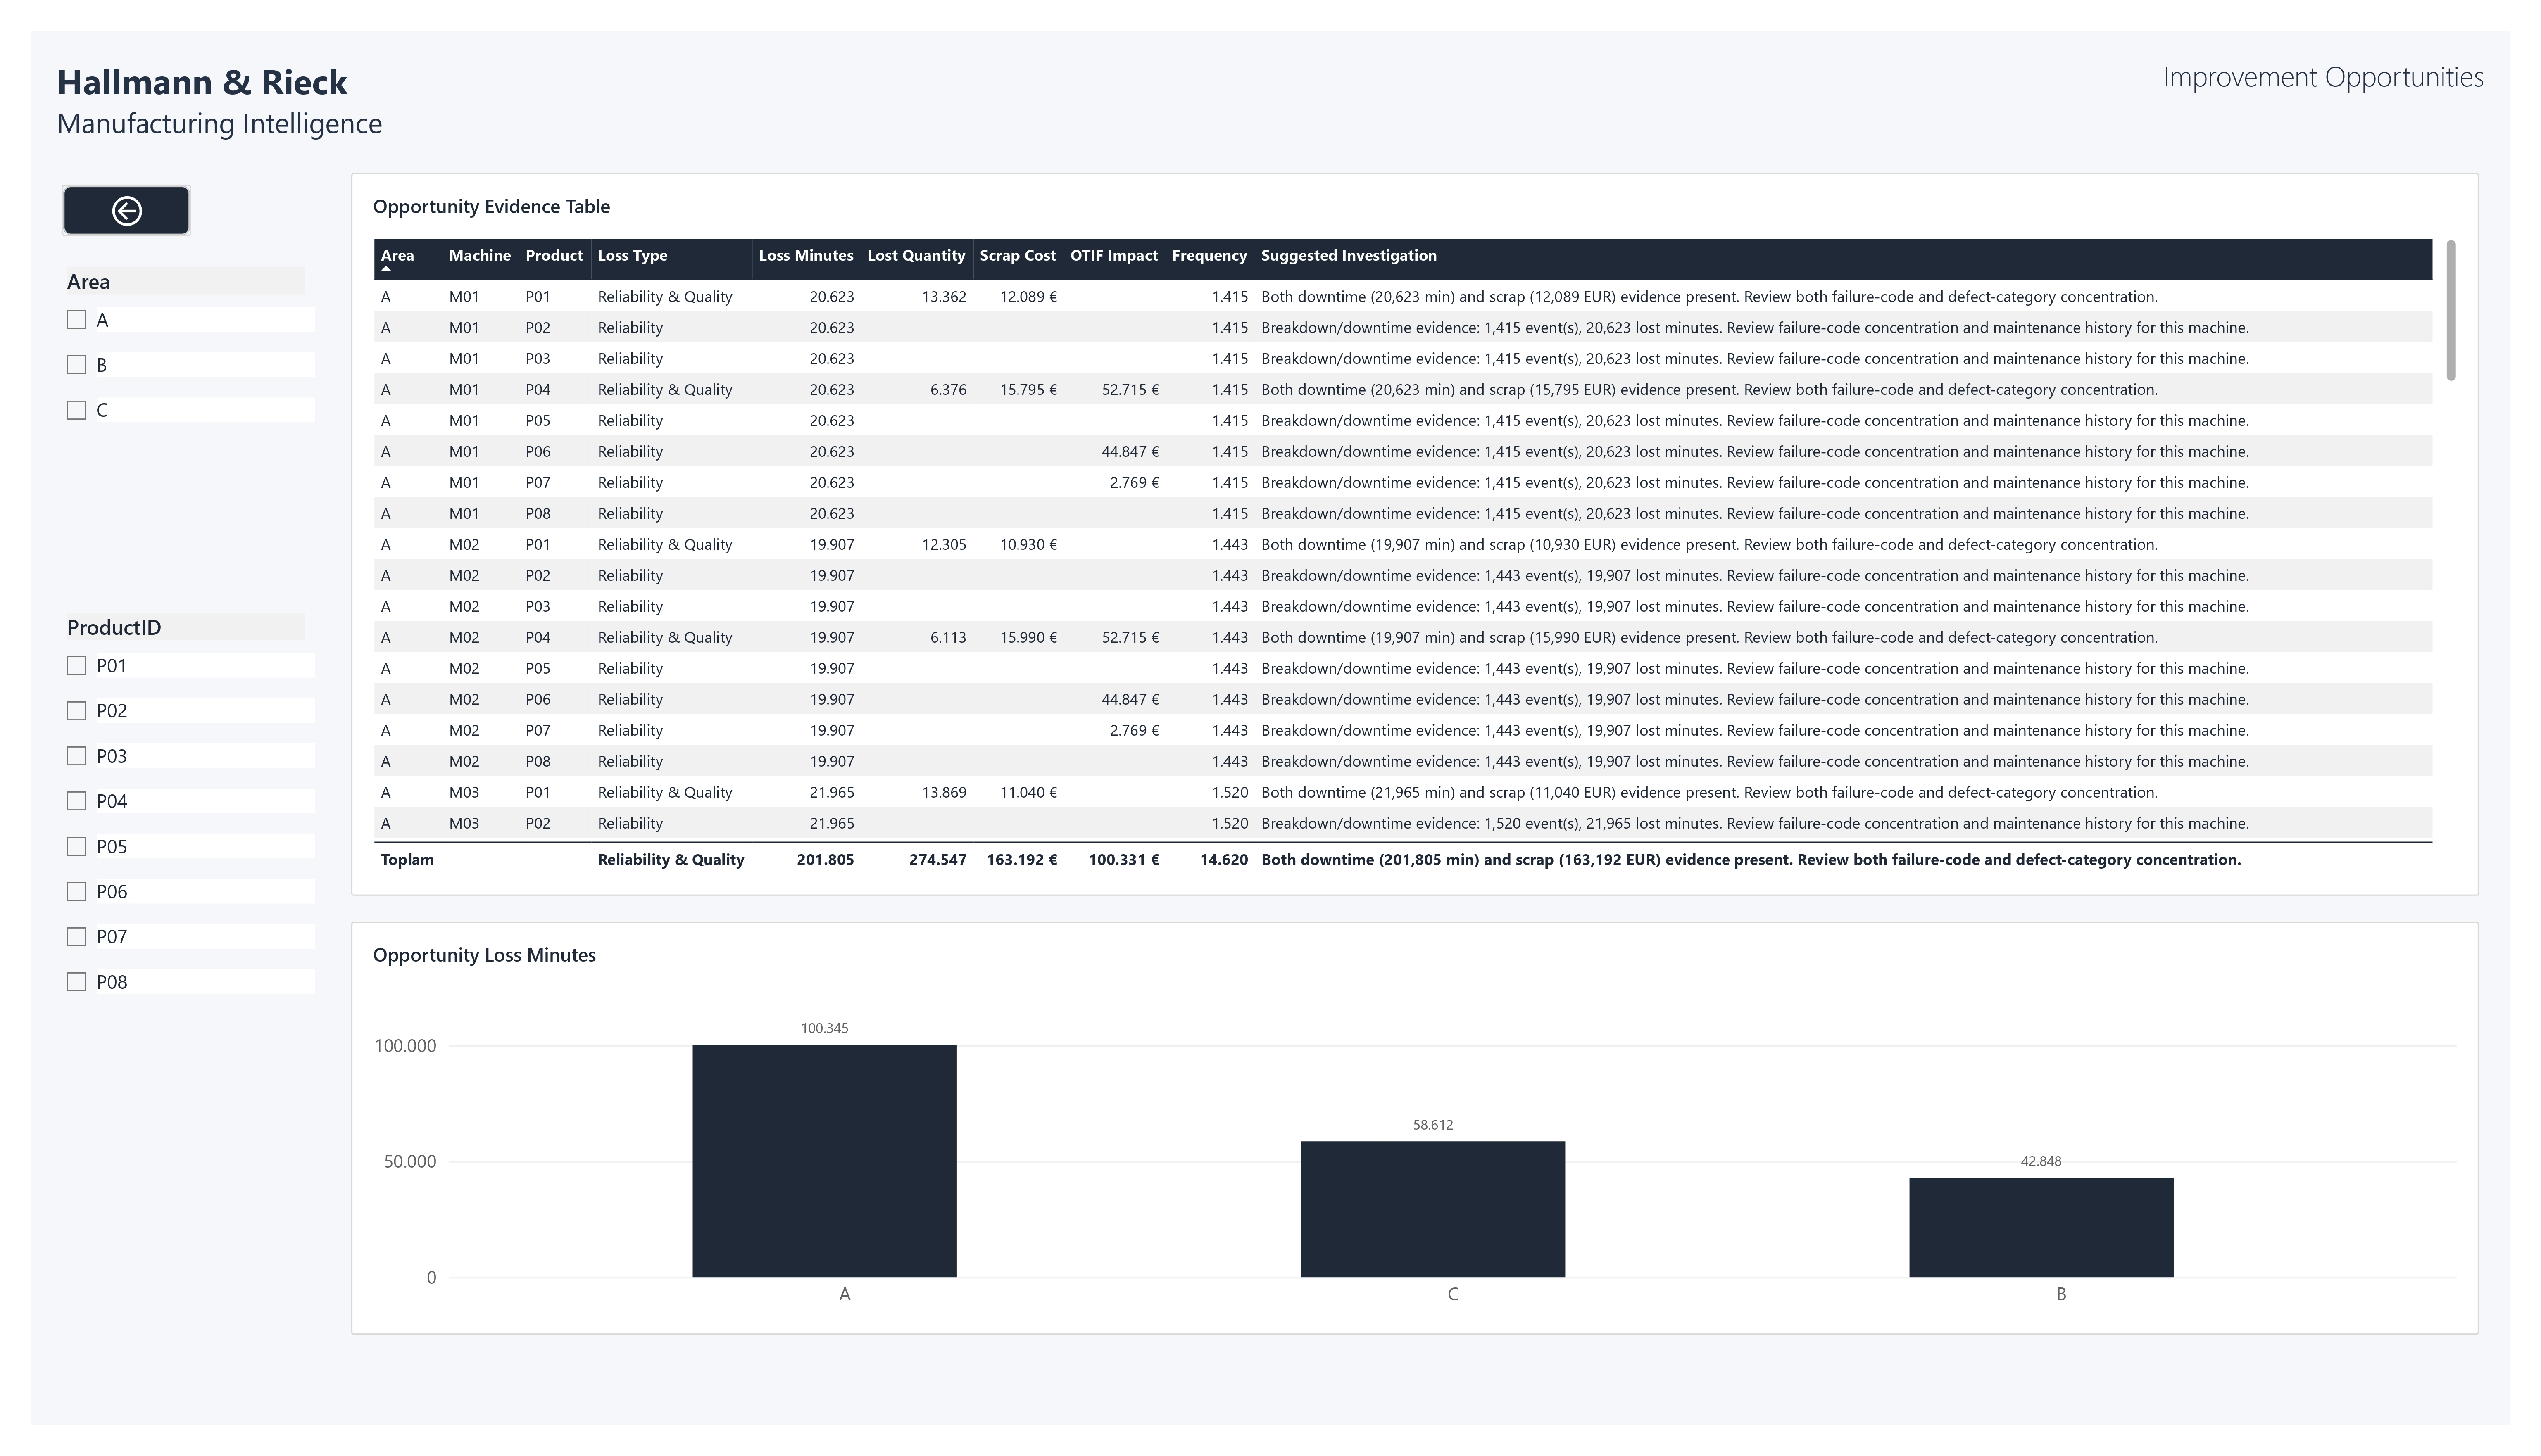

What the dashboard file says about the page in this screenshot:
{"tool":"powerbi","page":{"name":"08 Improvement Opportunities","canvas":[1920,1080],"ordinal":7},"visuals":[{"type":"textbox","title":"Company Text","box":[20,20,362.5,80],"z":0,"group":"g1"},{"type":"tableEx","title":"Opportunity Evidence Table","fields":{"Values":["Dim_Machine.Area","Dim_Machine.MachineID","Dim_Product.ProductID","_Measures.Opportunity Loss Type","_Measures.Total Downtime Min","_Measures.Lost Production Quantity","_Measures.Scrap Cost","_Measures.OTIF Impact - Short Value","_Measures.Downtime Event Count","_Measures.Opportunity Suggested Investigation"]},"box":[248,110,1648,560],"z":0},{"type":"textbox","title":"Page Text","box":[1644.9,20,255.1,80.5],"z":1000,"group":"g1"},{"type":"slicer","fields":{"Values":["Dim_Product.ProductID"]},"box":[20.3,450.8,200,428],"z":1000},{"type":"clusteredColumnChart","title":"Opportunity Loss Minutes","fields":{"Category":["Dim_Machine.Area"],"Y":["_Measures.Total Downtime Min"]},"box":[248,690,1648,320],"z":2000},{"type":"slicer","fields":{"Values":["Dim_Machine.Area"]},"box":[20.3,183.4,200,230],"z":3000},{"type":"actionButton","box":[24,119.2,100,40],"z":5000},{"type":"group","id":"g1","title":"Header","box":[20,20,1880,80.5],"z":5001}]}

Visuals, with their boxes on the page's 1920x1080 design canvas (x1, y1, x2, y2). These are canvas units, not pixel positions in the 2541x1456 screenshot, which may show the page scaled, cropped or inside an application window:
"Company Text" textbox: [20,20,382,100]
"Opportunity Evidence Table" tableEx: [248,110,1896,670]
"Page Text" textbox: [1645,20,1900,100]
slicer - Dim_Product.ProductID: [20,451,220,879]
"Opportunity Loss Minutes" clusteredColumnChart: [248,690,1896,1010]
slicer - Dim_Machine.Area: [20,183,220,413]
actionButton: [24,119,124,159]
"Header" group: [20,20,1900,100]
